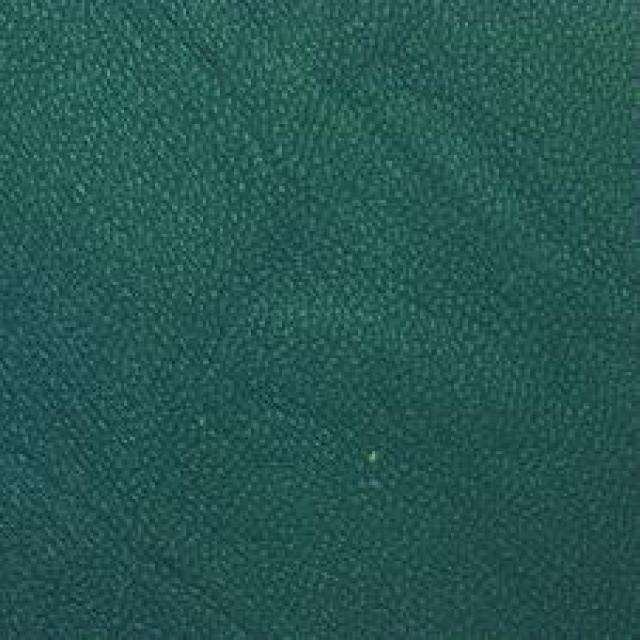Growth Marks: (28, 447, 222, 628), (389, 56, 588, 225)
